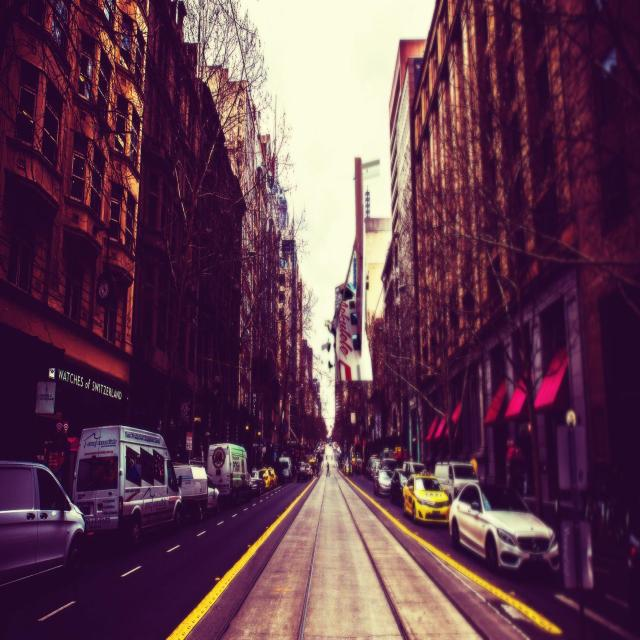airplane: (321, 154, 374, 380)
